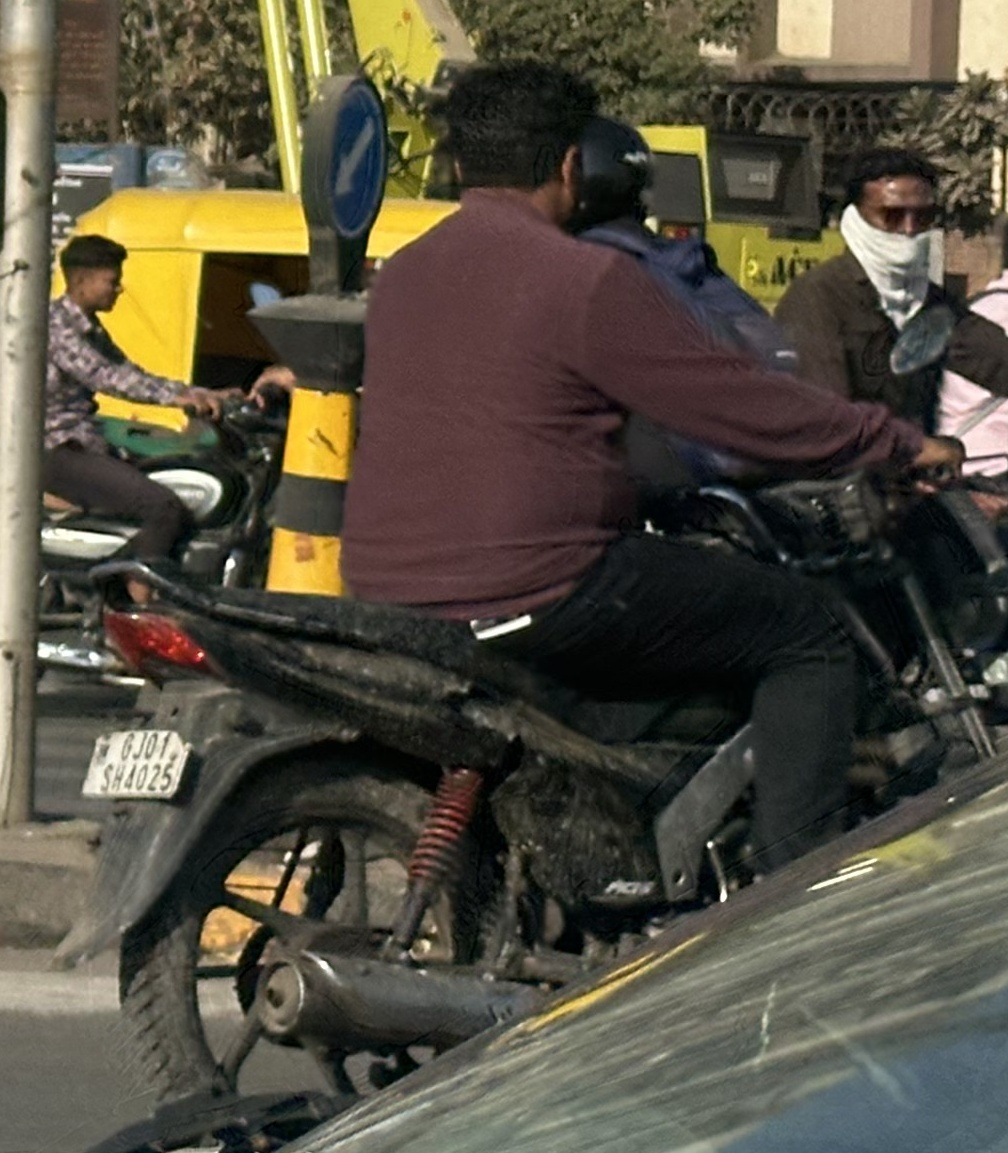BikeWithRider: (47, 48, 991, 1143), (733, 144, 1008, 800), (18, 207, 308, 698)
Helmet: (533, 102, 677, 249)
NoHelmet: (426, 49, 609, 243), (824, 139, 972, 309), (838, 145, 947, 278), (52, 228, 133, 321)
